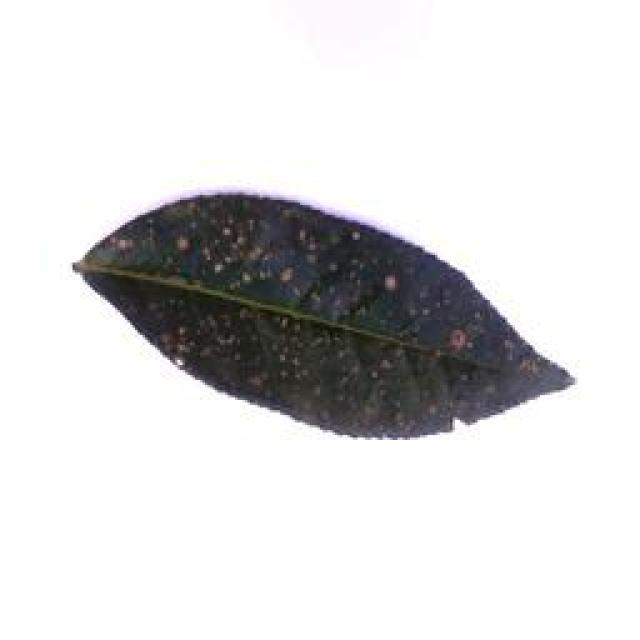Algal Leaf Spot: (54, 179, 580, 453)
